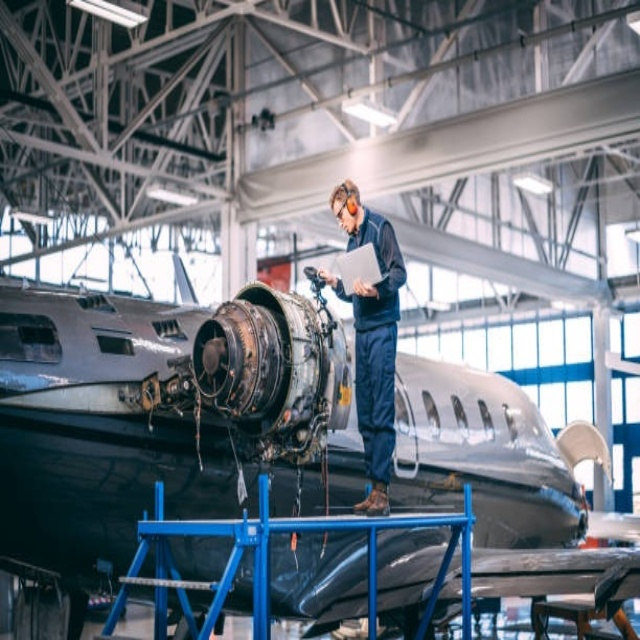Gafas: (335, 197, 350, 221)
Sin_guantes: (352, 277, 377, 299)
